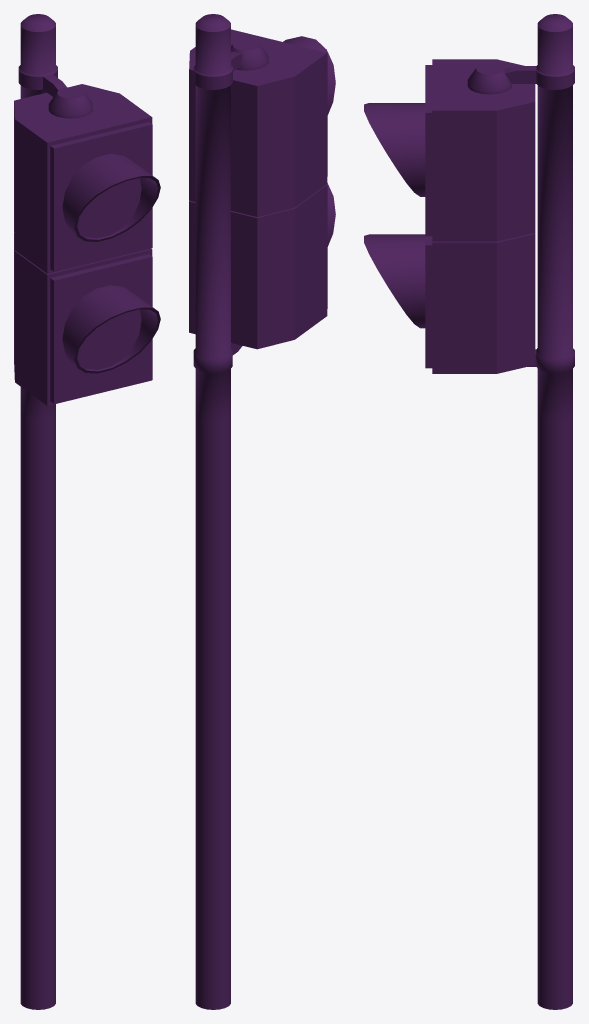
The model's file is Pedestrian Traffic Light.FBX.
3 views of the same model, side by side, from view 1: azimuth 30°, elevation 25°; view 2: azimuth 150°, elevation 25°; view 3: azimuth 270°, elevation 25° (orthographic).
Parts seen in each view (by area): view 1: Cylinder004; view 2: Cylinder004; view 3: Cylinder004.
Boxes of the visible parts, x1,y1,x2,y2 form: Cylinder004: (14, 14, 160, 1009); Cylinder004: (189, 14, 335, 1009); Cylinder004: (364, 14, 574, 1009).
Bounding box in the file's own units: 0.3351 × 3 × 0.5831.
